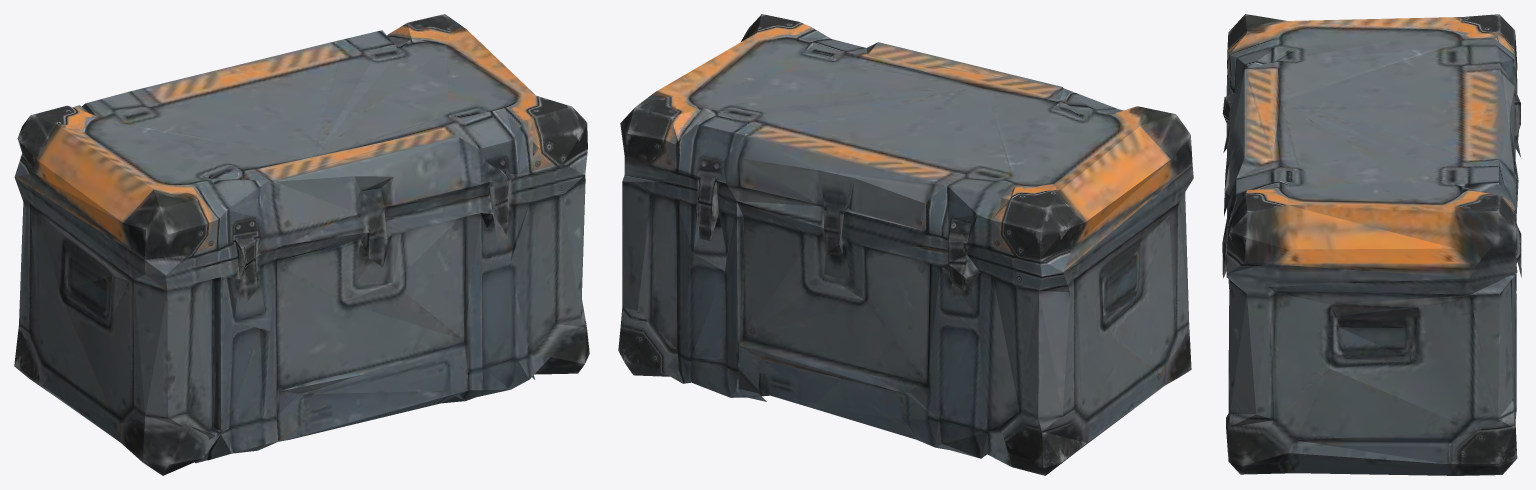
Rendered from crate.glb.
3 renders of one model, left to right at view 1: azimuth 30°, elevation 25°; view 2: azimuth 150°, elevation 25°; view 3: azimuth 270°, elevation 25°, orthographic.
Parts seen in each view (by area): view 1: Mesh_0; view 2: Mesh_0; view 3: Mesh_0.
Boxes of the visible parts, x1,y1,x2,y2 form: Mesh_0: [14, 14, 589, 475]; Mesh_0: [618, 14, 1193, 475]; Mesh_0: [1222, 14, 1521, 475].
Bounding box in the file's own units: 1.2 × 0.6871 × 0.7056.
1 material, 1 textured.
